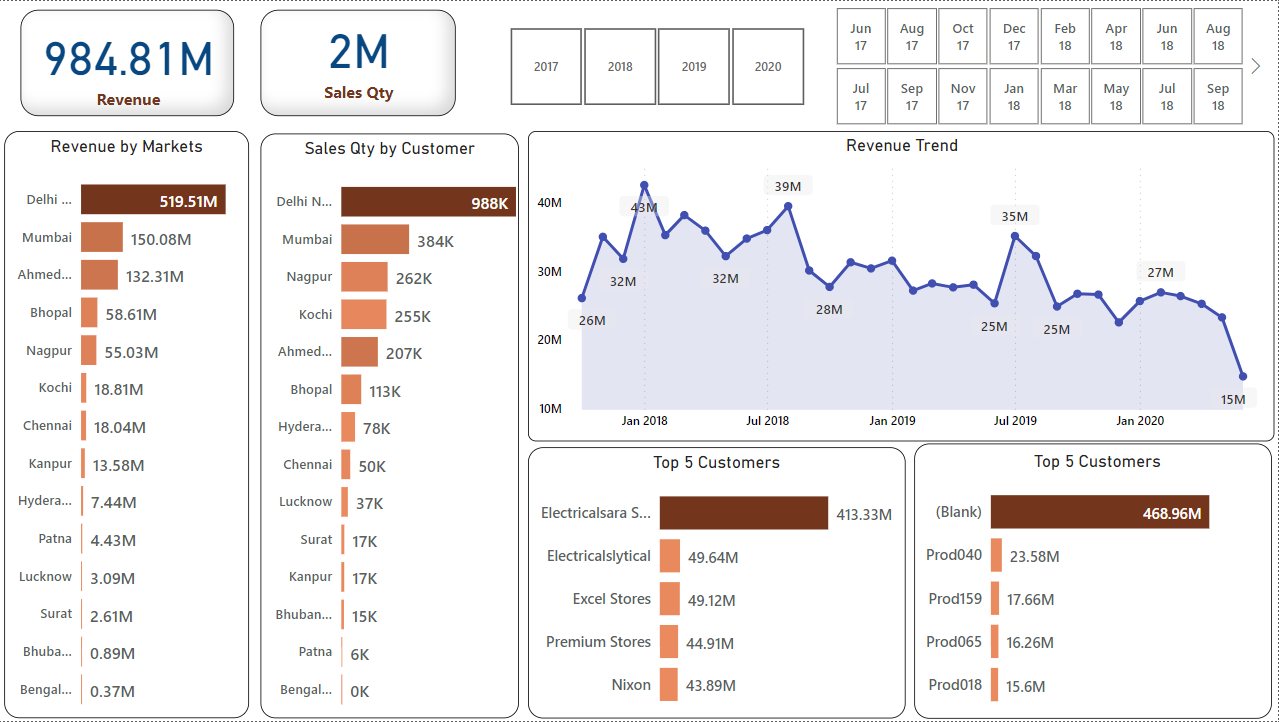

What the dashboard file says about the page in this screenshot:
{"tool":"powerbi","page":{"name":"Page 1","canvas":[1280,720],"ordinal":0},"visuals":[{"type":"card","fields":{"Values":["base measures.Revenue"]},"box":[22,9,213.8,106.2],"z":0},{"type":"card","fields":{"Values":["base measures.Sales Qty"]},"box":[262.5,8.8,195,106.2],"z":1000},{"type":"barChart","title":"Revenue by Markets","fields":{"Y":["base measures.Revenue"],"Category":["sales markets.market_name"]},"box":[6.2,130,245,587.5],"z":2000},{"type":"barChart","title":"Sales Qty by Customer","fields":{"Y":["Sum(sales transactions.sales_qty)"],"Category":["sales markets.market_name"]},"box":[262.5,132.5,258.8,585],"z":3000},{"type":"slicer","fields":{"Values":["sales date.year"]},"box":[486.2,20,343.8,91.2],"z":4000},{"type":"slicer","fields":{"Values":["sales date.cy_date"]},"box":[812.5,0,456.2,130],"z":5000},{"type":"barChart","title":"Top 5 Customers","fields":{"Y":["base measures.Revenue"],"Category":["sales customers.custmer_name"]},"box":[530,446.2,377.5,271.2],"z":6000},{"type":"barChart","title":"Top 5 Customers","fields":{"Y":["base measures.Revenue"],"Category":["sales products.product_code"]},"box":[916.2,442.5,357.5,275],"z":7000},{"type":"areaChart","title":"Revenue Trend","fields":{"Category":["sales date.cy_date"],"Y":["base measures.Revenue"]},"box":[530,130,746.2,310],"z":8000}]}

Visuals, with their boxes in screenshot pixels (x1, y1, x2, y2), scaled from the page's 1280x720 canvas onto the 1279x722 screenshot:
card - base measures.Revenue: crop(22, 9, 236, 116)
card - base measures.Sales Qty: crop(262, 9, 457, 115)
"Revenue by Markets" barChart: crop(6, 130, 251, 719)
"Sales Qty by Customer" barChart: crop(262, 133, 521, 719)
slicer - sales date.year: crop(486, 20, 829, 112)
slicer - sales date.cy_date: crop(812, 0, 1268, 130)
"Top 5 Customers" barChart: crop(530, 447, 907, 719)
"Top 5 Customers" barChart: crop(915, 444, 1273, 719)
"Revenue Trend" areaChart: crop(530, 130, 1275, 441)
